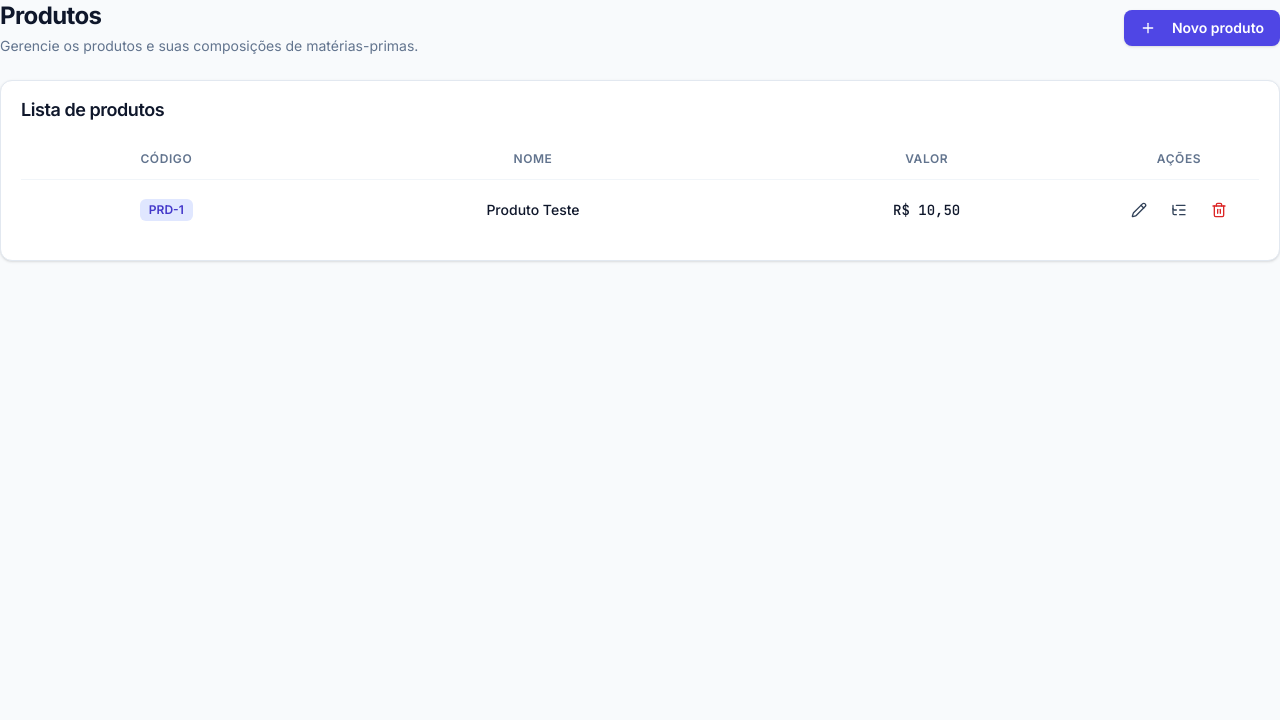
Test: ProductsPage › populates form when editing a product
The image size is (1280, 720).
Expected: the text "Produto Teste" is shown, [312, 179, 754, 240]
Click the button named "Editar" at (1139, 210), box [1121, 192, 1157, 228]
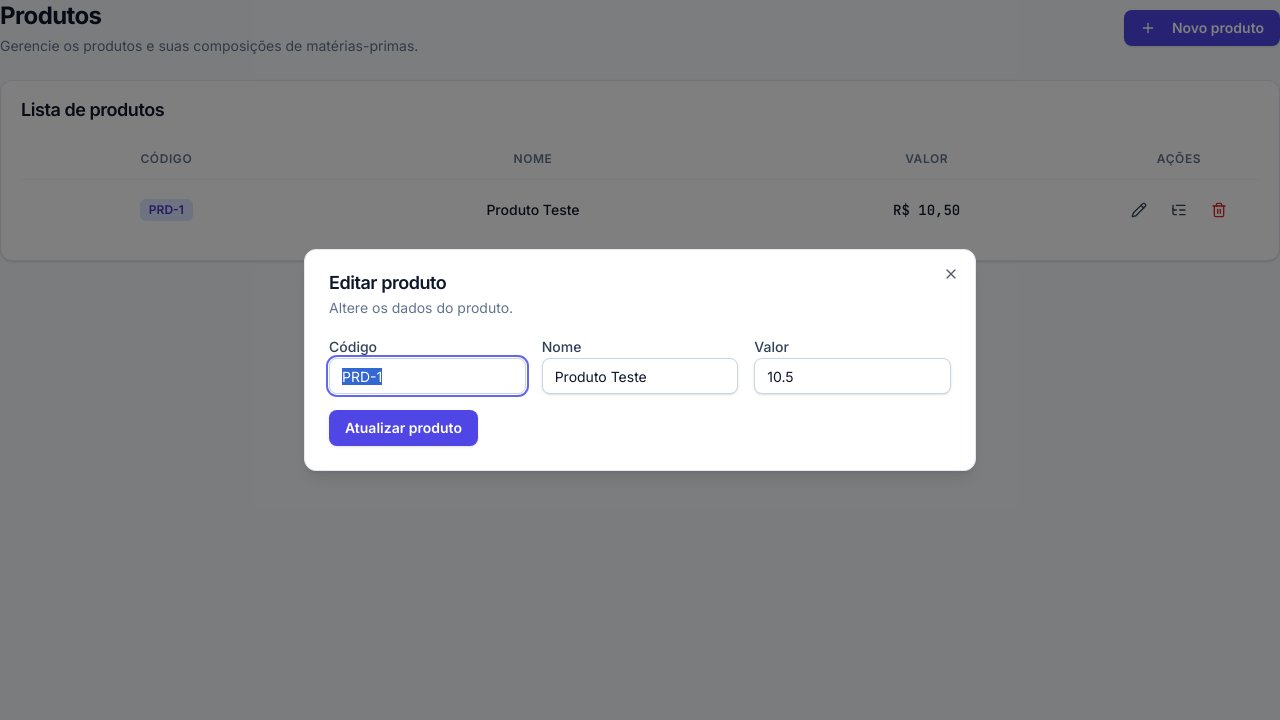
Expected: the heading "Editar produto" is shown, [329, 272, 446, 293]
Expected: the field labelled "Código" holds "PRD-1", [329, 358, 526, 394]
Expected: the field labelled "Nome" holds "Produto Teste", [542, 358, 738, 394]
